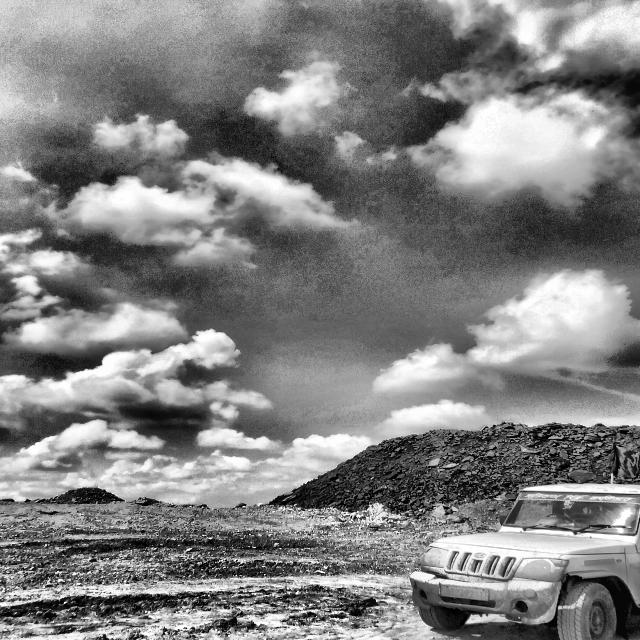light_vehicle: (408, 440, 640, 640)
